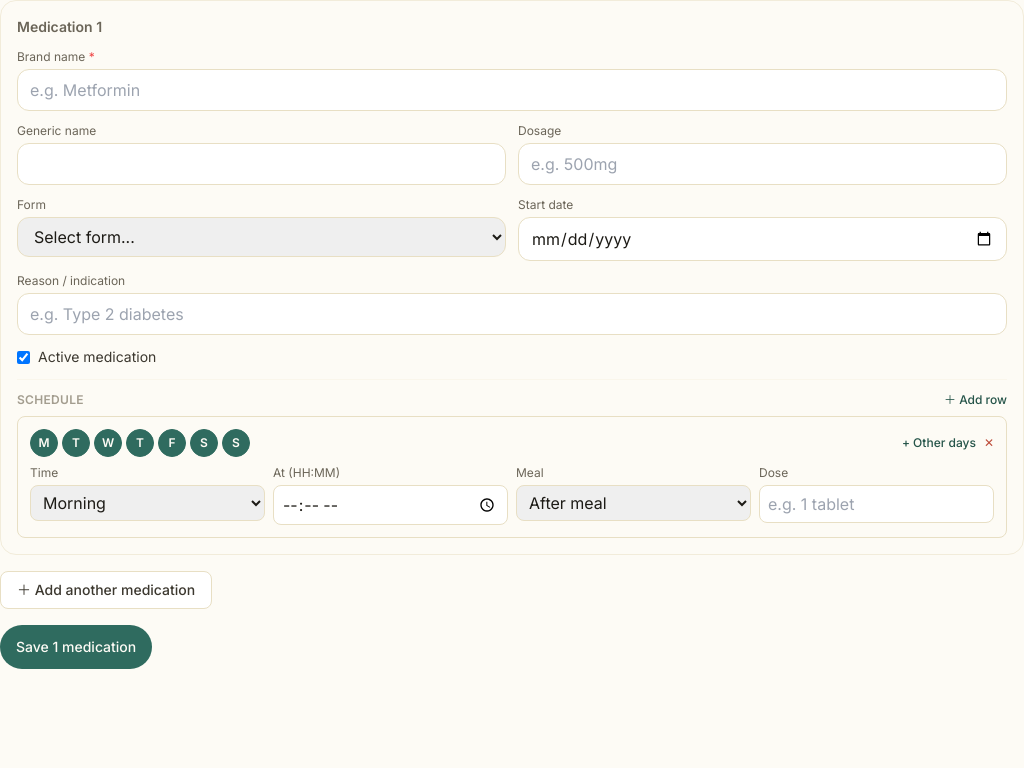
Test case: MedicationForm › adds a medication card
The width and height of the screenshot is (1024, 768).
Expected: the text "✕ Remove" is not shown
Click the button "＋ Add another medication".
click(106, 590)  # box [0,571,212,609]
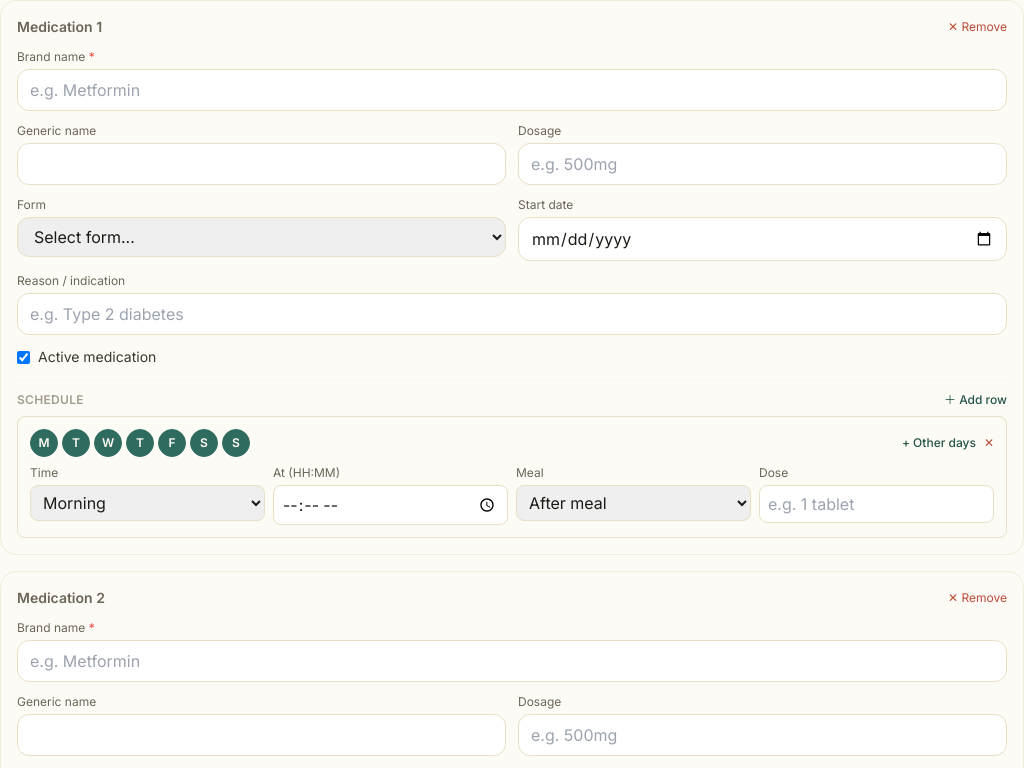
Expected: the number of buttons "✕ Remove" is 2, [948,19,1007,35]; [948,590,1007,606]
